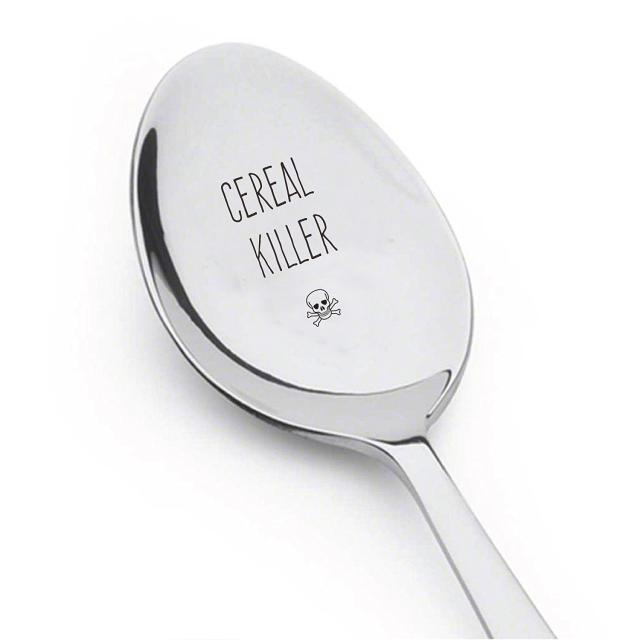spoon: (116, 13, 566, 640)
